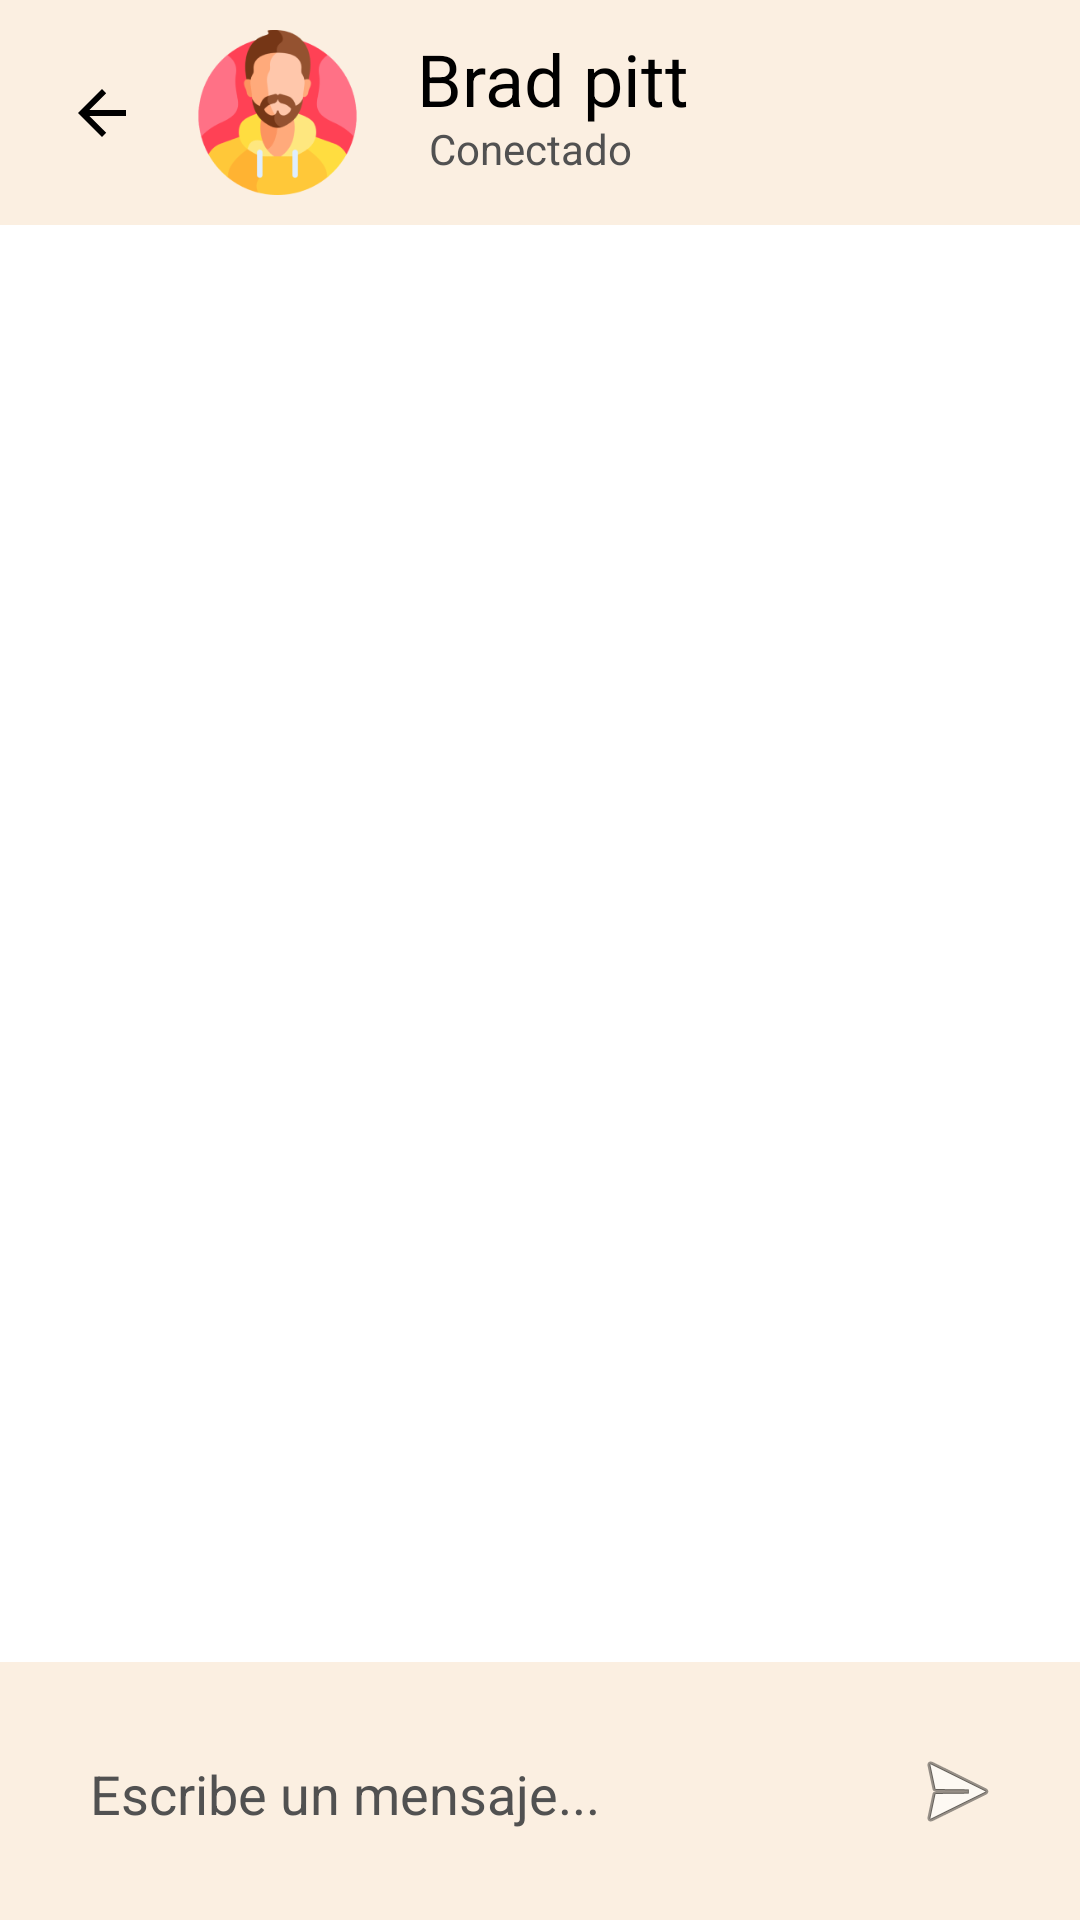

Named icons in this screenshot (1080x1920) and their centers, (x,y):
enviar mensaje: (958,1791)
perfil: (277,112)
Volver atras: (102,113)
